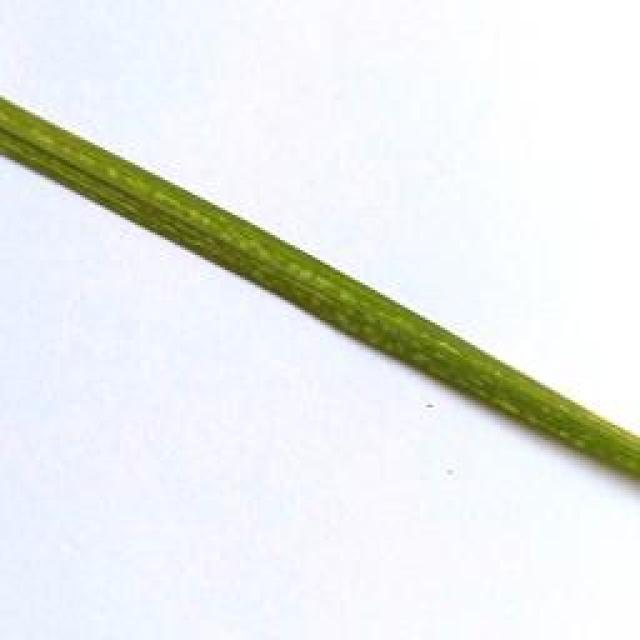Healthy-Plant: (0, 98, 640, 486)
